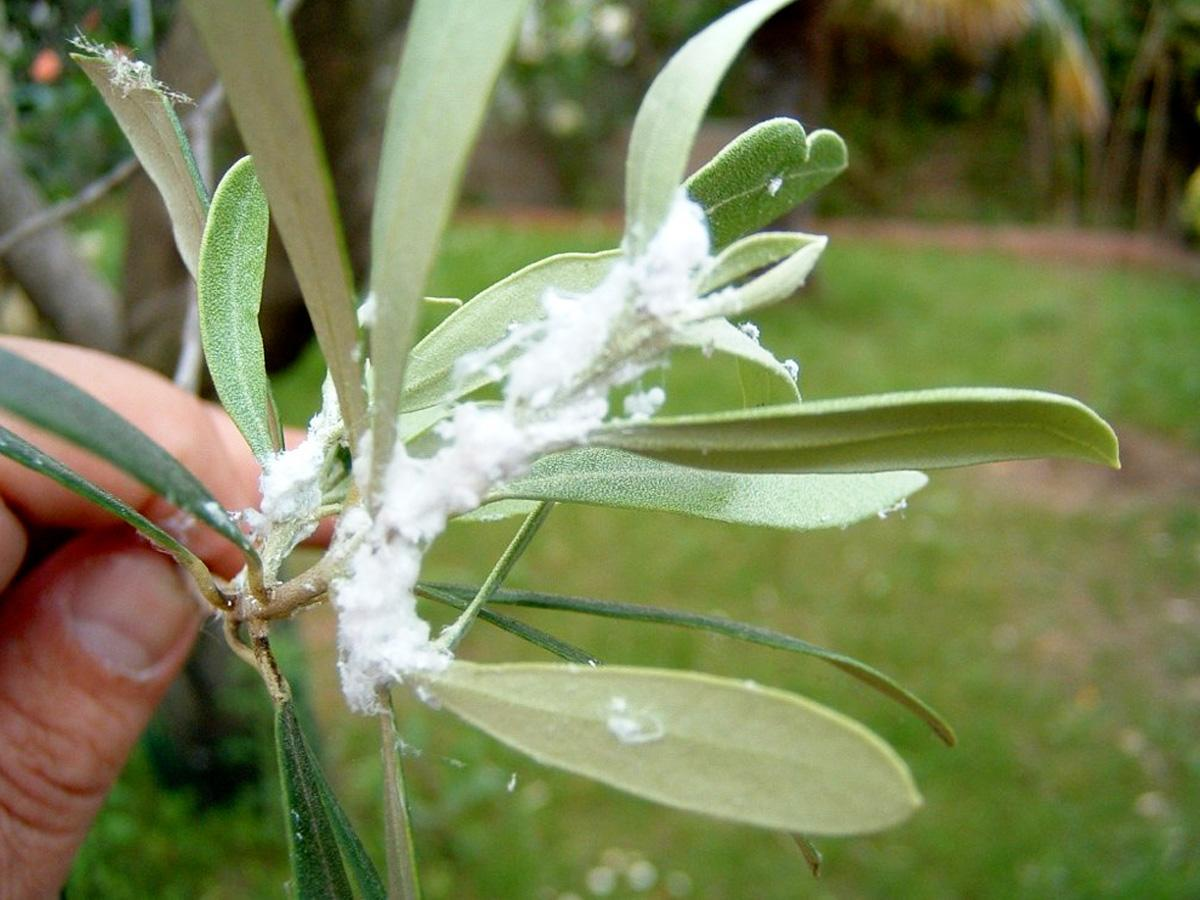Psyllid: (198, 192, 753, 750), (58, 31, 212, 119)
